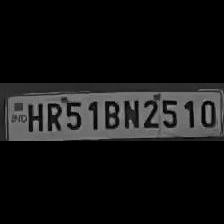0: (198, 97, 218, 128)
1: (84, 98, 100, 132), (180, 97, 196, 128)
2: (139, 97, 159, 129)
5: (61, 98, 83, 132), (158, 96, 178, 128)
B: (100, 96, 120, 130)
H: (23, 100, 44, 132)
N: (120, 97, 140, 129)
R: (42, 98, 62, 132)
